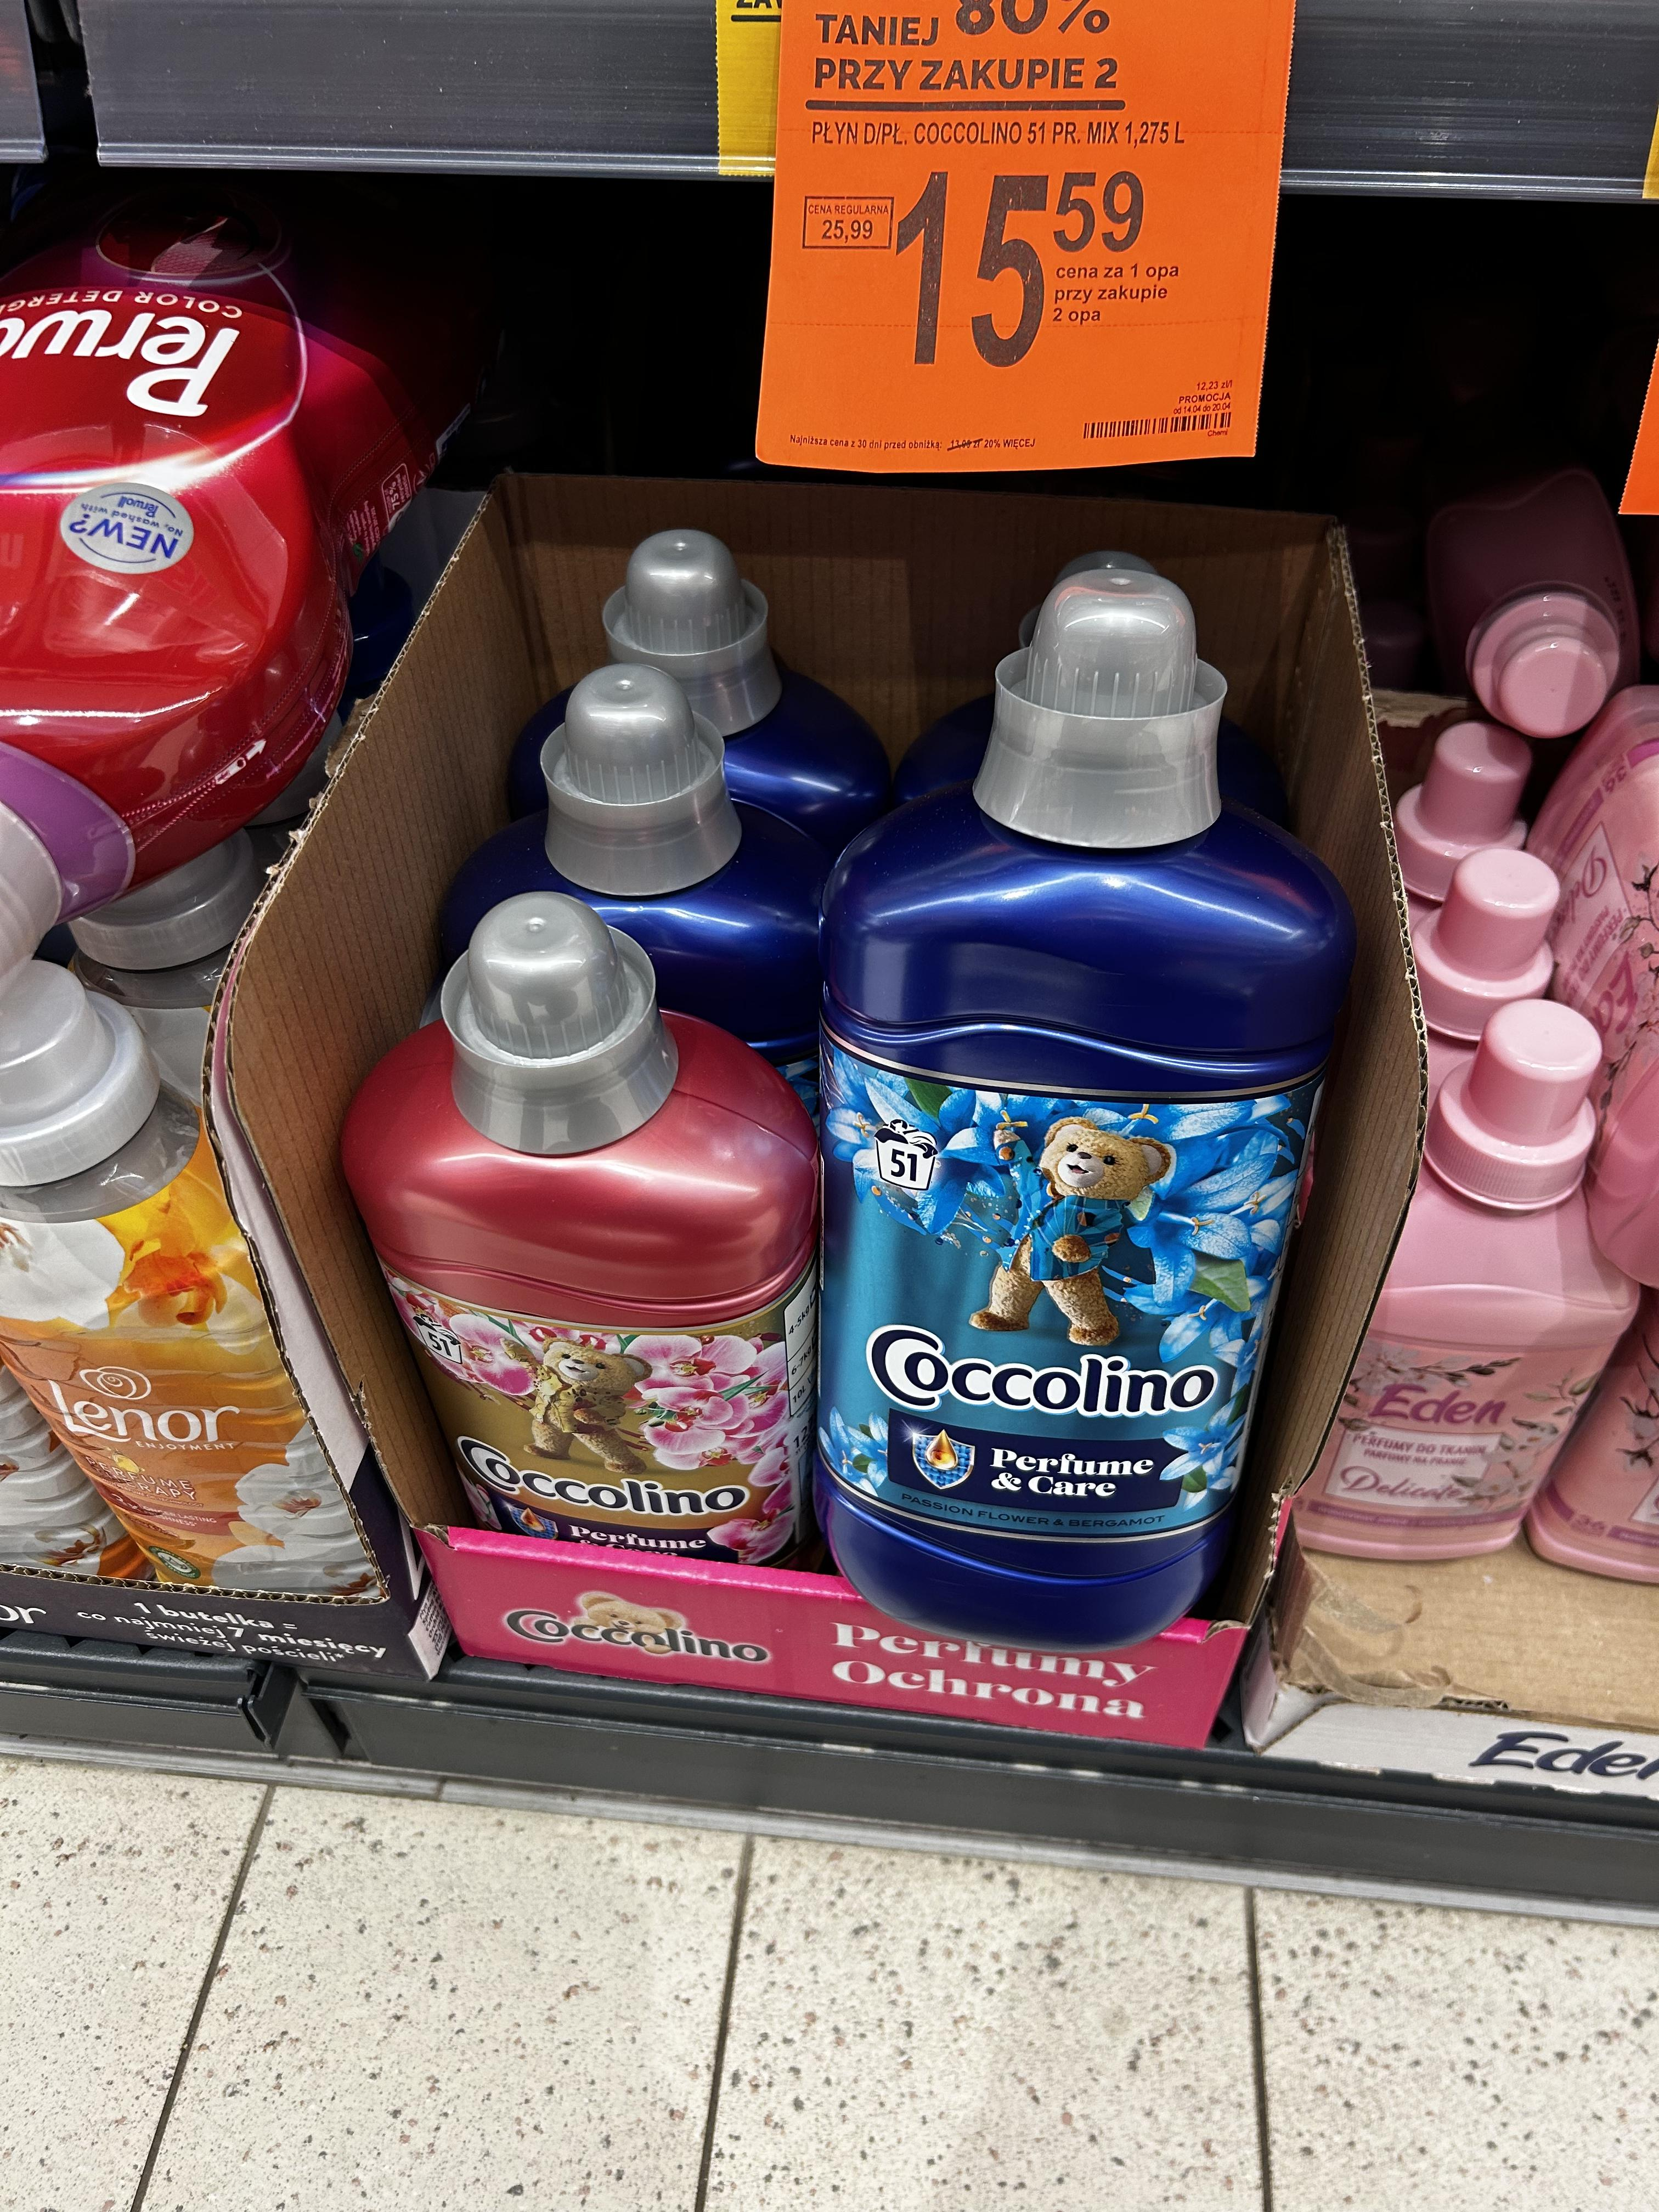cocolino: (817, 540, 1263, 1646), (315, 885, 817, 1573), (423, 651, 821, 1052), (540, 503, 932, 848)
